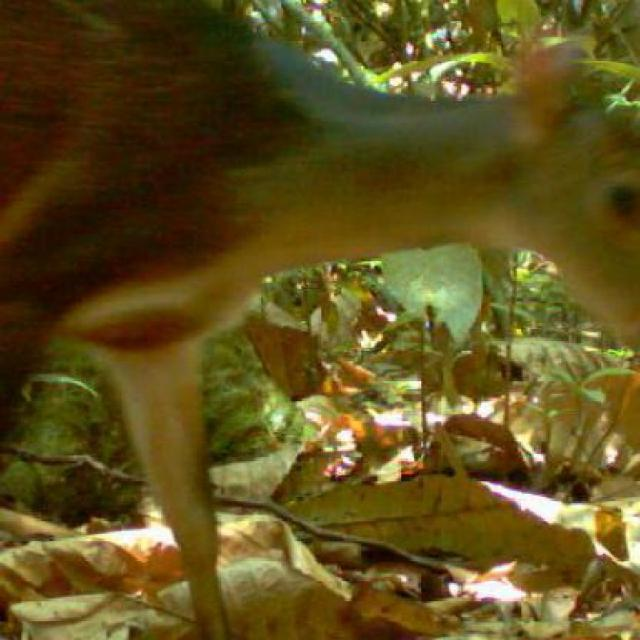Deer: (0, 0, 638, 591)
